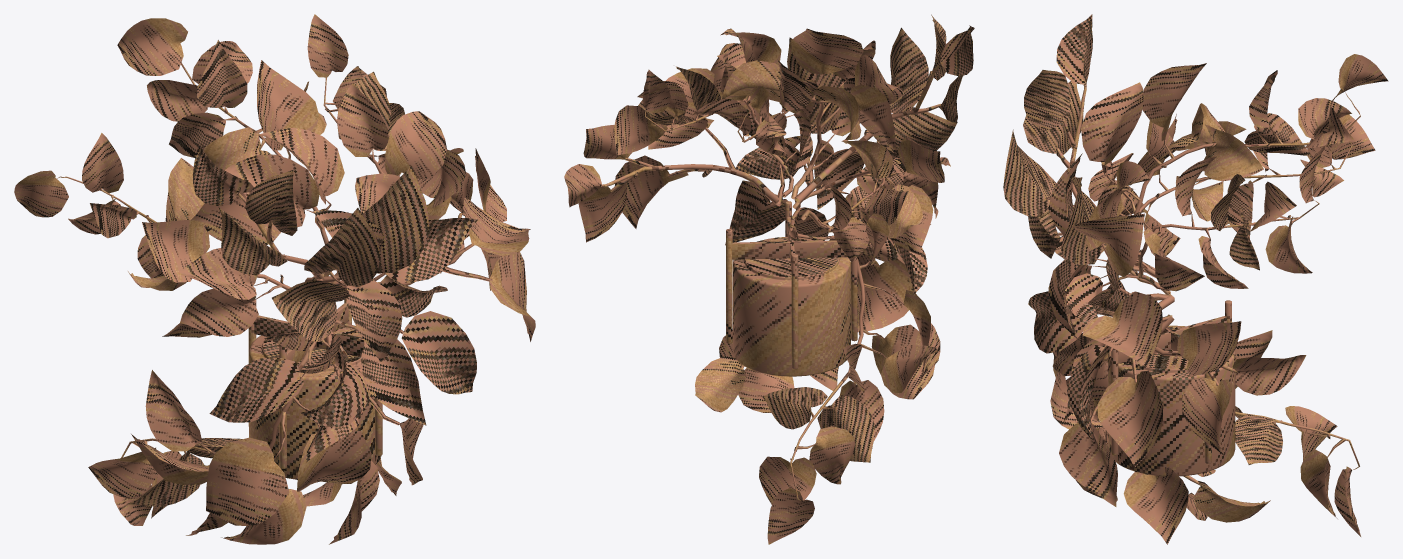
The model's file is plant_pothos.glb.
3 views of the same model, side by side, from view 1: azimuth 30°, elevation 25°; view 2: azimuth 150°, elevation 25°; view 3: azimuth 270°, elevation 25° (orthographic). The views are drawn at different scales.
Visible parts, largest first — view 1: POTHOS_POTHOS_Mat_0, POT_WOOD_LEGS_WOODEN_LEGS_POT_0; view 2: POTHOS_POTHOS_Mat_0, POT_WOOD_LEGS_WOODEN_LEGS_POT_0; view 3: POTHOS_POTHOS_Mat_0, POT_WOOD_LEGS_WOODEN_LEGS_POT_0.
Part boxes in pixels (x1,y1,x2,y2): POTHOS_POTHOS_Mat_0: (14, 14, 535, 544); POT_WOOD_LEGS_WOODEN_LEGS_POT_0: (248, 289, 382, 479); POTHOS_POTHOS_Mat_0: (564, 14, 974, 544); POT_WOOD_LEGS_WOODEN_LEGS_POT_0: (726, 201, 857, 376); POTHOS_POTHOS_Mat_0: (1003, 14, 1388, 544); POT_WOOD_LEGS_WOODEN_LEGS_POT_0: (1108, 291, 1235, 476).
Size of the model in its own units: 0.6957 by 0.82 by 0.5816.
Materials: 1 (1 with a texture image).
